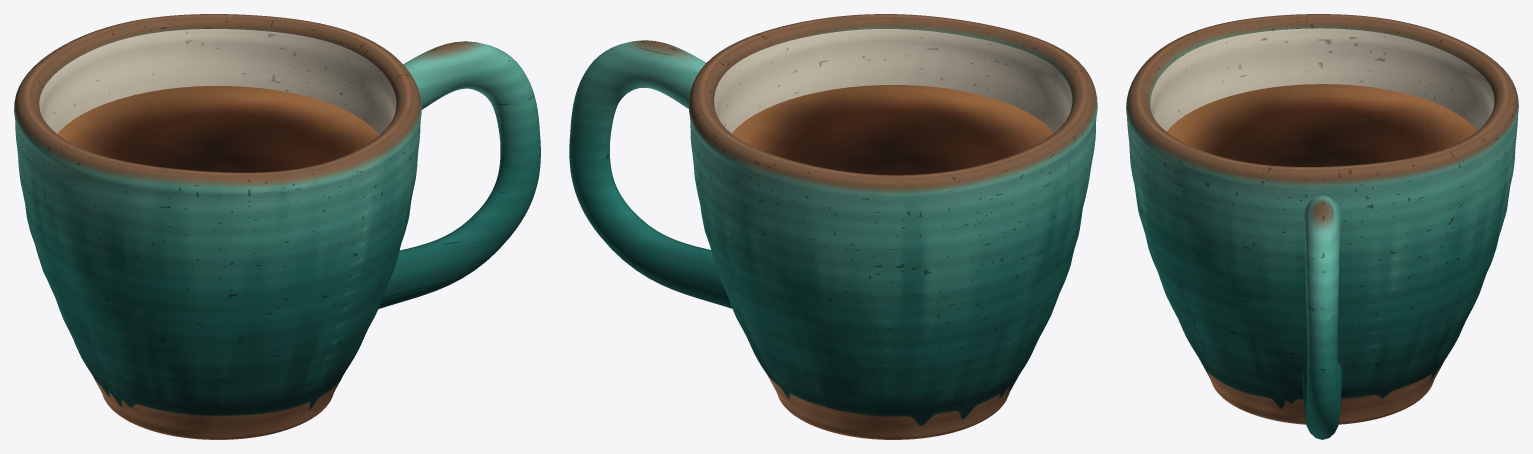
File: cup.glb
3 views of the same model, side by side, from view 1: azimuth 30°, elevation 25°; view 2: azimuth 150°, elevation 25°; view 3: azimuth 270°, elevation 25° (orthographic). The views are drawn at different scales.
Parts seen in each view (by area): view 1: Cup, Coffee, Handle; view 2: Cup, Coffee, Handle; view 3: Cup, Coffee, Handle.
Part boxes in pixels (<box>): Cup: <box>14,14,421,439</box>; Coffee: <box>57,86,379,172</box>; Handle: <box>369,41,540,308</box>; Cup: <box>688,14,1097,439</box>; Coffee: <box>731,85,1053,175</box>; Handle: <box>569,40,741,308</box>; Cup: <box>1126,14,1518,424</box>; Coffee: <box>1167,84,1477,166</box>; Handle: <box>1302,195,1342,439</box>.
Size of the model in its own units: 1.76 by 1.02 by 1.25.
Materials: 3 (3 with a texture image).
